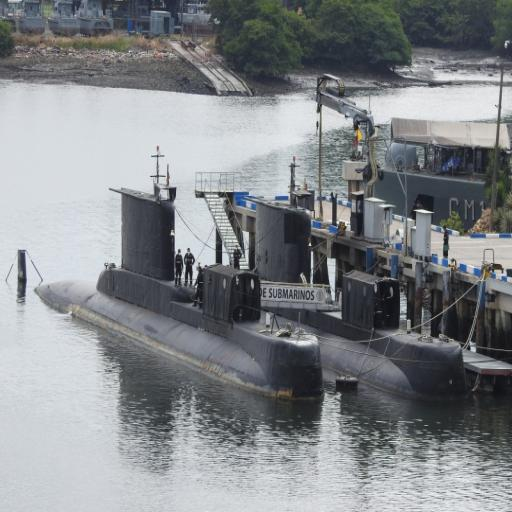submarine: (24, 182, 322, 402), (198, 198, 470, 396)
